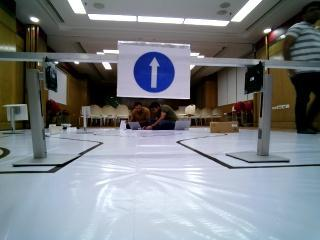straight: (116, 42, 187, 97)
